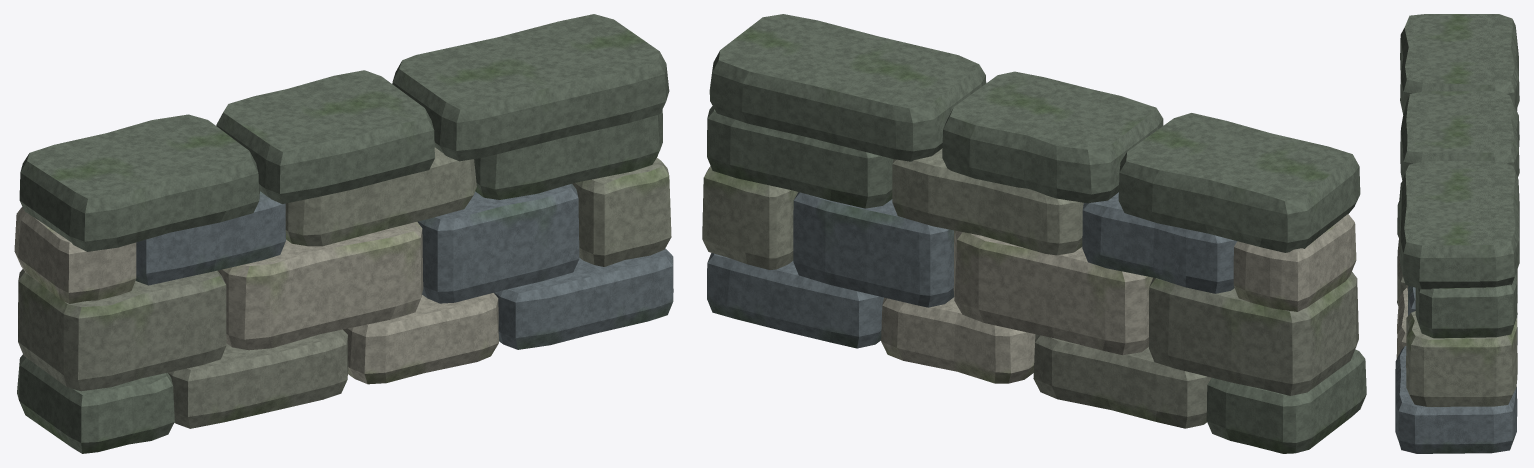
File: retaining-wall.glb
3 views of the same model, side by side, from view 1: azimuth 30°, elevation 25°; view 2: azimuth 150°, elevation 25°; view 3: azimuth 270°, elevation 25° (orthographic). The views are drawn at different scales.
Parts seen in each view (by area): view 1: Dry-stacked ashlar with staggered seams and mossy capstones; view 2: Dry-stacked ashlar with staggered seams and mossy capstones; view 3: Dry-stacked ashlar with staggered seams and mossy capstones.
Part boxes in pixels (x1,y1,x2,y2): Dry-stacked ashlar with staggered seams and mossy capstones: [14, 14, 673, 453]; Dry-stacked ashlar with staggered seams and mossy capstones: [702, 14, 1366, 453]; Dry-stacked ashlar with staggered seams and mossy capstones: [1395, 14, 1519, 453].
Size of the model in its own units: 2.49 by 1 by 0.546.
1 material, 1 textured.
